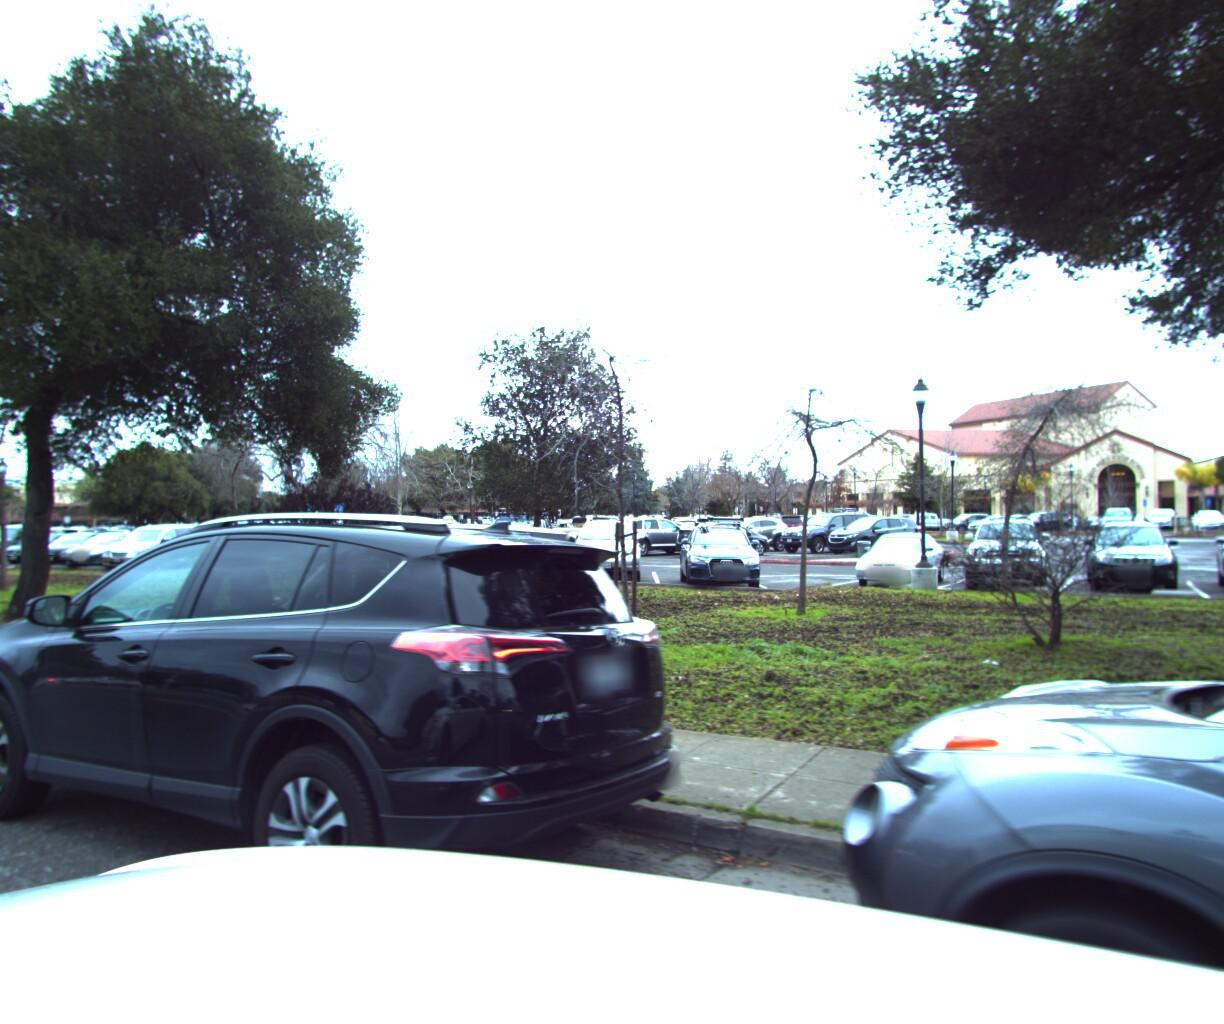car: (0, 499, 736, 1024), (749, 539, 1224, 1024)
